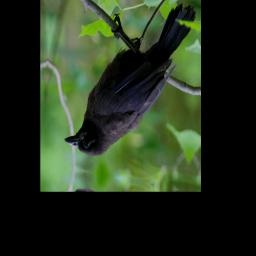Crow: (63, 0, 198, 176)
